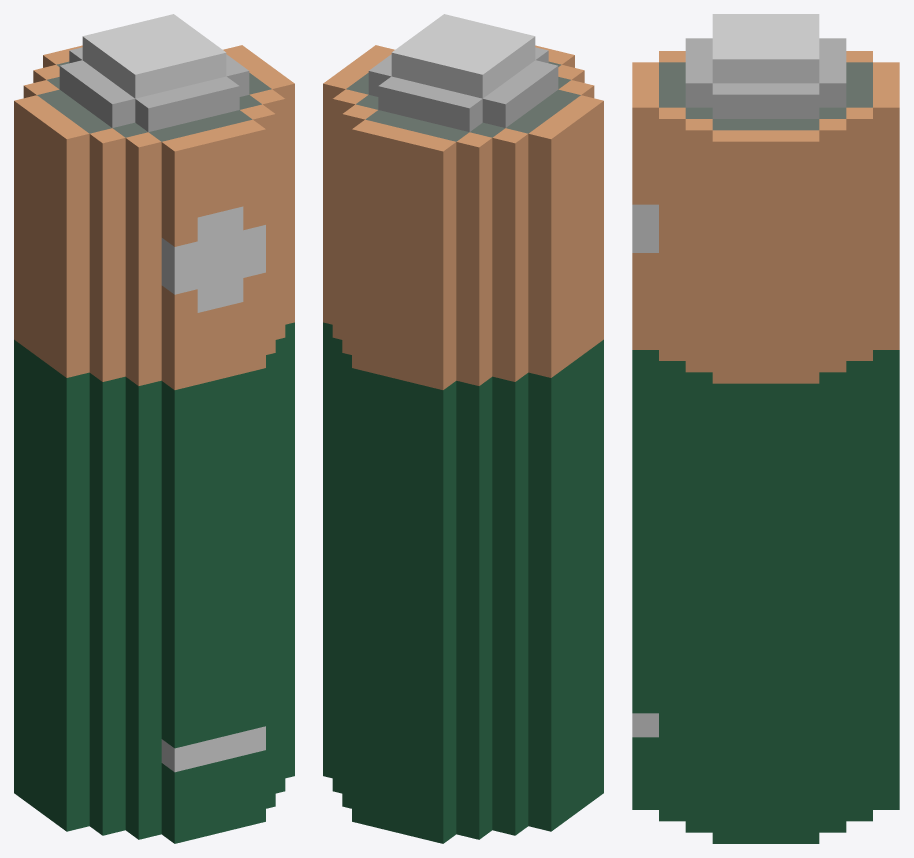
File: battery_1_1.2g.obj
3 renders of one model, left to right at view 1: azimuth 30°, elevation 25°; view 2: azimuth 150°, elevation 25°; view 3: azimuth 270°, elevation 25°, orthographic.
Size of the model in its own units: 1 by 3.1 by 1.
Materials: 1 (1 with a texture image).
